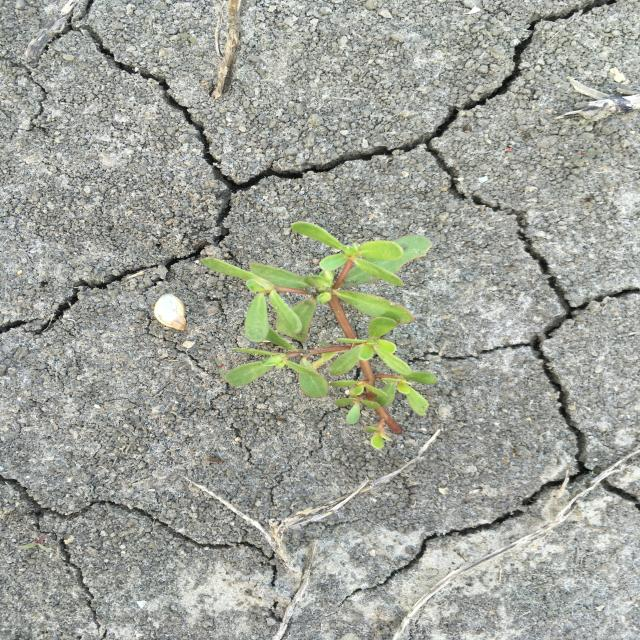Purslane: (198, 219, 442, 452)
